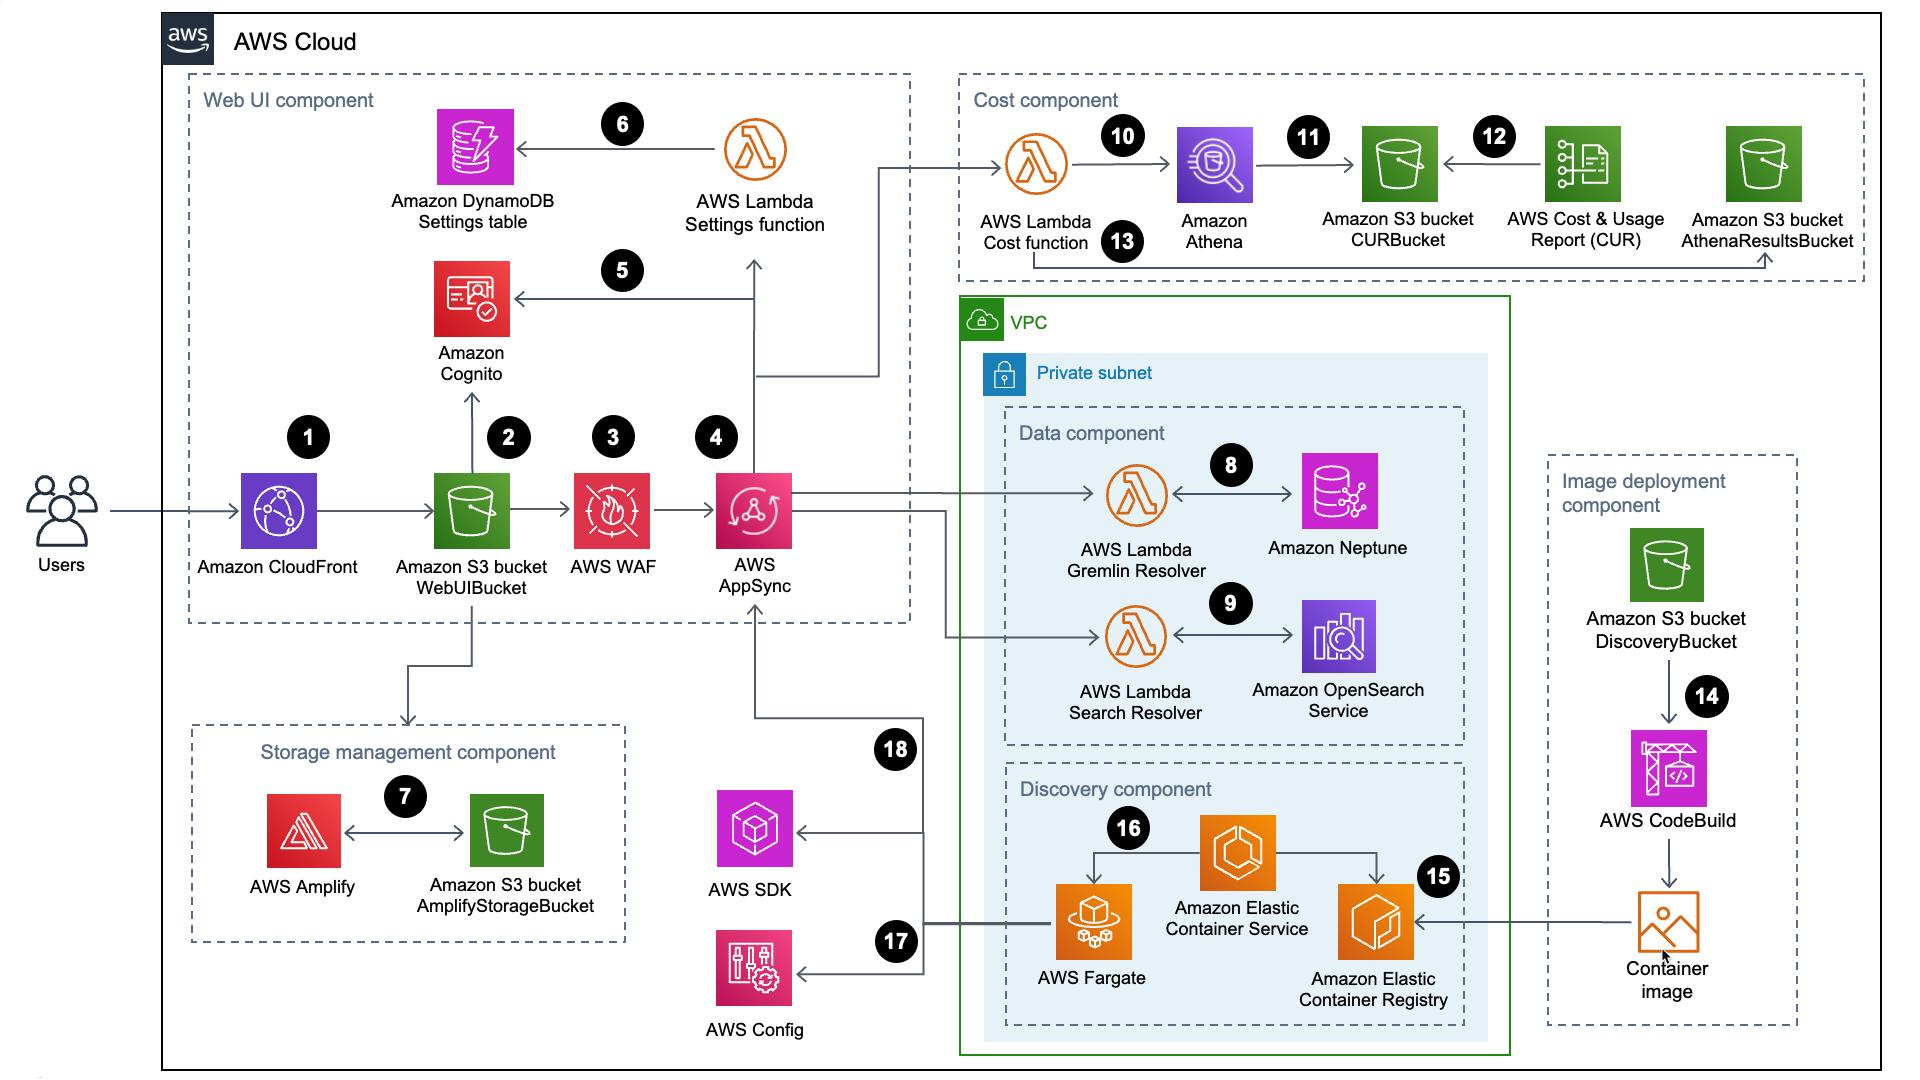API Gateway: (716, 469, 799, 554)
Auth: (435, 257, 517, 344)
Backend: (717, 103, 810, 186), (986, 123, 1077, 202), (1051, 881, 1134, 963), (1196, 816, 1279, 891), (1096, 458, 1176, 534), (1097, 599, 1171, 671)
Configuration: (716, 935, 795, 1002)
Database: (1170, 121, 1261, 203), (434, 107, 520, 191), (1299, 448, 1383, 533)
Firewall: (568, 471, 663, 550)
Frontend: (239, 472, 322, 558), (266, 791, 342, 872)
Search: (1304, 600, 1371, 678)
Storage: (1720, 121, 1815, 211), (429, 467, 516, 556), (1335, 878, 1419, 965), (1626, 527, 1712, 607), (1358, 123, 1436, 204), (465, 793, 546, 869), (1642, 889, 1702, 955)
Workflow Engine: (720, 794, 789, 870)
